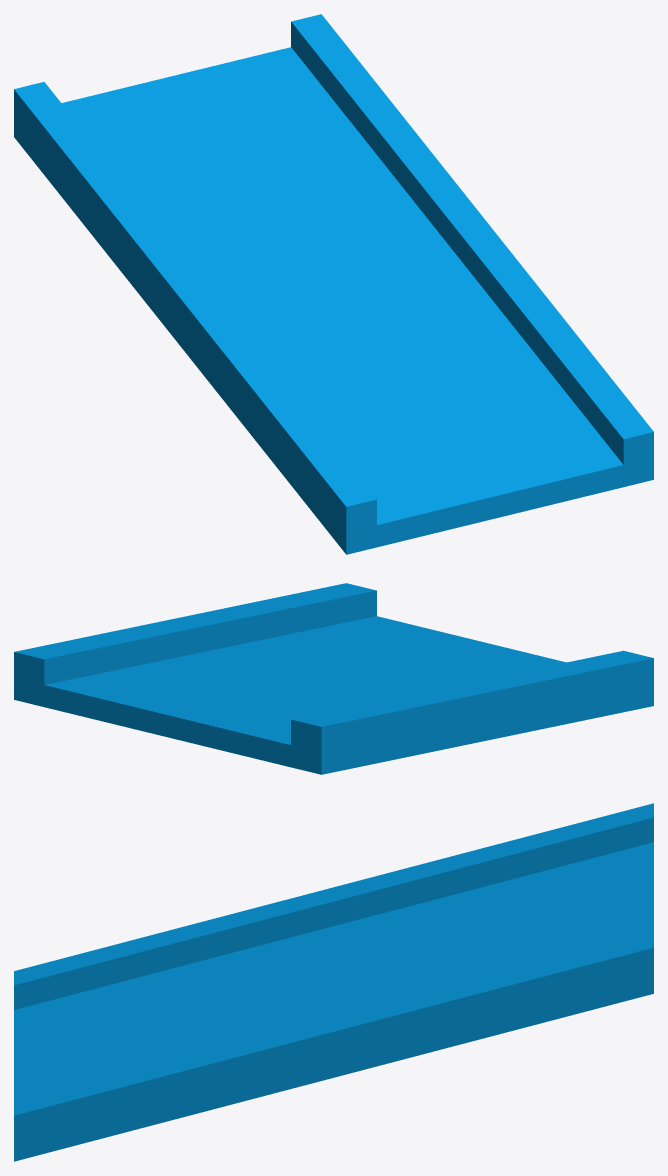
Rendered from Bridge_05.fbx.
3 renders of one model, top to bottom at view 1: azimuth 30°, elevation 25°; view 2: azimuth 150°, elevation 25°; view 3: azimuth 270°, elevation 25°, orthographic. The views are drawn at different scales.
Visible parts, largest first — view 1: Bridge_05; view 2: Bridge_05; view 3: Bridge_05.
Boxes of the visible parts, bbox=[...] form: Bridge_05: bbox=[14, 14, 653, 554]; Bridge_05: bbox=[14, 583, 653, 774]; Bridge_05: bbox=[14, 803, 653, 1161].
Bounding box in the file's own units: 15.31 × 10.58 × 28.67.
